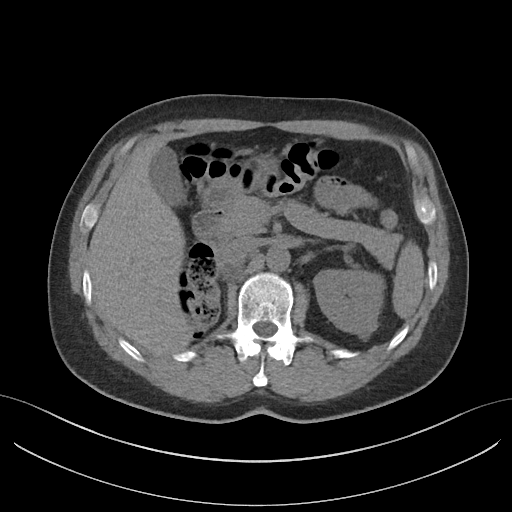Lesion: (358, 328, 374, 344)
